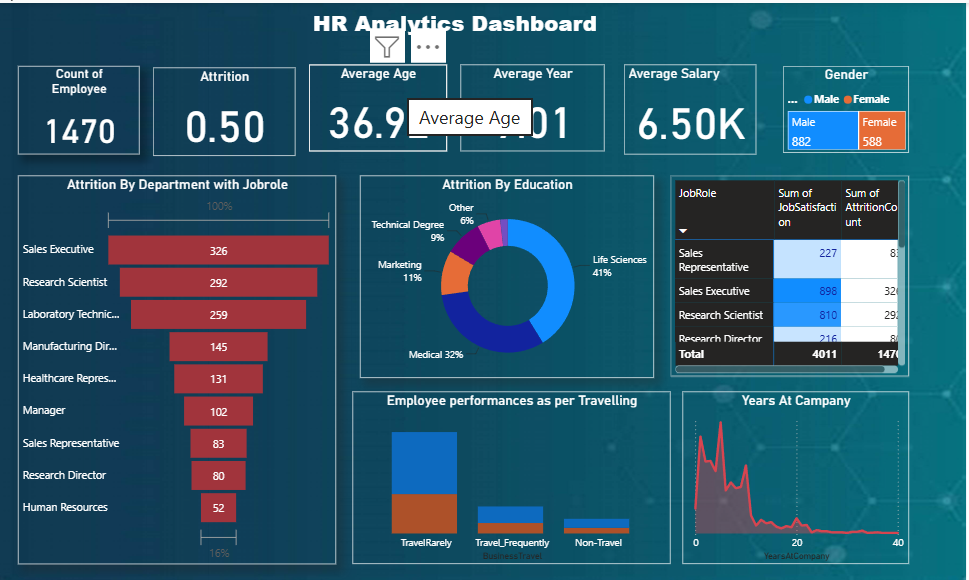

The page's visual inventory and layout, read from the dashboard file:
{"tool":"powerbi","page":{"name":"Page 1","canvas":[1280,720],"ordinal":0},"visuals":[{"type":"card","title":"Count of Employee","fields":{"Values":["CountNonNull(HR Employee Attrition.EmpId)"]},"box":[63.5,78.4,151.3,110.2],"z":0},{"type":"card","title":"Attrition ","fields":{"Values":["HR Employee Attrition.AttritionRate"]},"box":[231.6,80.3,177.4,110.2],"z":1000},{"type":"card","title":"Average Age","fields":{"Values":["Avg(HR Employee Attrition.Age)"]},"box":[425.8,76.6,171.8,108.3],"z":2000},{"type":"card","title":"Average Year","fields":{"Values":["Avg(HR Employee Attrition.YearsAtCompany)"]},"box":[614.5,76.6,179.3,108.3],"z":3000},{"type":"card","title":"Average Salary","fields":{"Values":["Avg(HR Employee Attrition.MonthlyIncome)"]},"box":[818.1,76.6,164.4,112.1],"z":4000},{"type":"donutChart","title":"Attrition By Education","fields":{"Category":["HR Employee Attrition.EducationField"],"Y":["Sum(HR Employee Attrition.EmployeeCount)"]},"box":[489.3,214.8,366.1,252.1],"z":5000},{"type":"funnel","title":"Attrition By Department with Jobrole","fields":{"Category":["HR Employee Attrition.JobRole"],"Y":["Sum(HR Employee Attrition.AttritionCount)"]},"box":[63.5,214.8,396,483.7],"z":6000},{"type":"pivotTable","fields":{"Rows":["HR Employee Attrition.JobRole"],"Values":["Sum(HR Employee Attrition.JobSatisfaction)","Sum(HR Employee Attrition.AttritionCount)"]},"box":[876,214.8,297,250.3],"z":7000},{"type":"areaChart","title":"Years At Campany","fields":{"Category":["HR Employee Attrition.YearsAtCompany"],"Y":["Sum(HR Employee Attrition.AttritionCount)"]},"box":[890.9,483.7,282,214.8],"z":8000},{"type":"treemap","title":"Gender","fields":{"Values":["Sum(HR Employee Attrition.AttritionCount)"],"Group":["HR Employee Attrition.Gender"]},"box":[1016,78.4,156.9,108.3],"z":9000},{"type":"textbox","box":[425.8,0,429.6,50.4],"z":10000},{"type":"columnChart","title":"Employee performances as per Travelling","fields":{"Category":["HR Employee Attrition.BusinessTravel"],"Y":["Sum(HR Employee Attrition.EmployeeCount)","Sum(HR Employee Attrition.PerformanceRating)"]},"box":[480,483.7,396,214.8],"z":11000}]}

Visuals, with their boxes in screenshot pixels (x1, y1, x2, y2):
"Count of Employee" card: BBox(16, 63, 137, 151)
"Attrition " card: BBox(151, 64, 293, 153)
"Average Age" card: BBox(306, 61, 444, 148)
"Average Year" card: BBox(458, 61, 602, 148)
"Average Salary" card: BBox(621, 61, 753, 151)
"Attrition By Education" donutChart: BBox(357, 172, 651, 375)
"Attrition By Department with Jobrole" funnel: BBox(16, 172, 333, 561)
pivotTable - HR Employee Attrition.JobRole x Sum(HR Employee Attrition.JobSatisfaction): BBox(668, 172, 906, 373)
"Years At Campany" areaChart: BBox(680, 388, 906, 561)
"Gender" treemap: BBox(780, 63, 906, 150)
textbox: BBox(306, 0, 651, 40)
"Employee performances as per Travelling" columnChart: BBox(350, 388, 668, 561)
